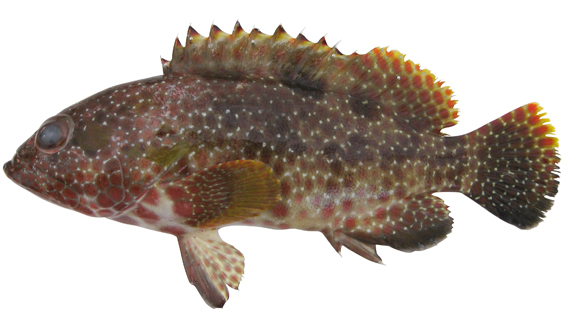fish: (3, 19, 561, 309)
